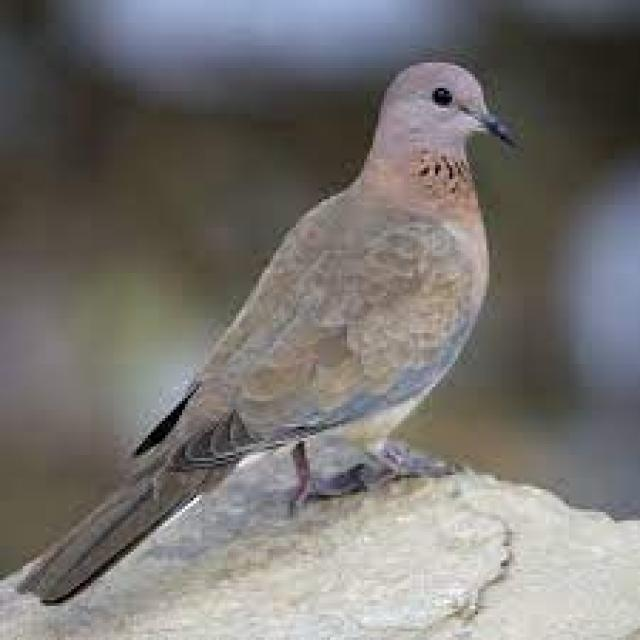bird: (11, 51, 522, 605)
